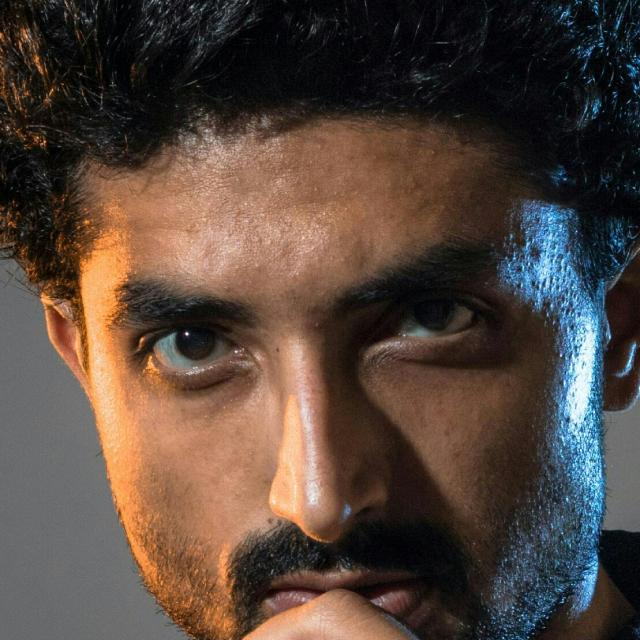front: (104, 185, 552, 612)
